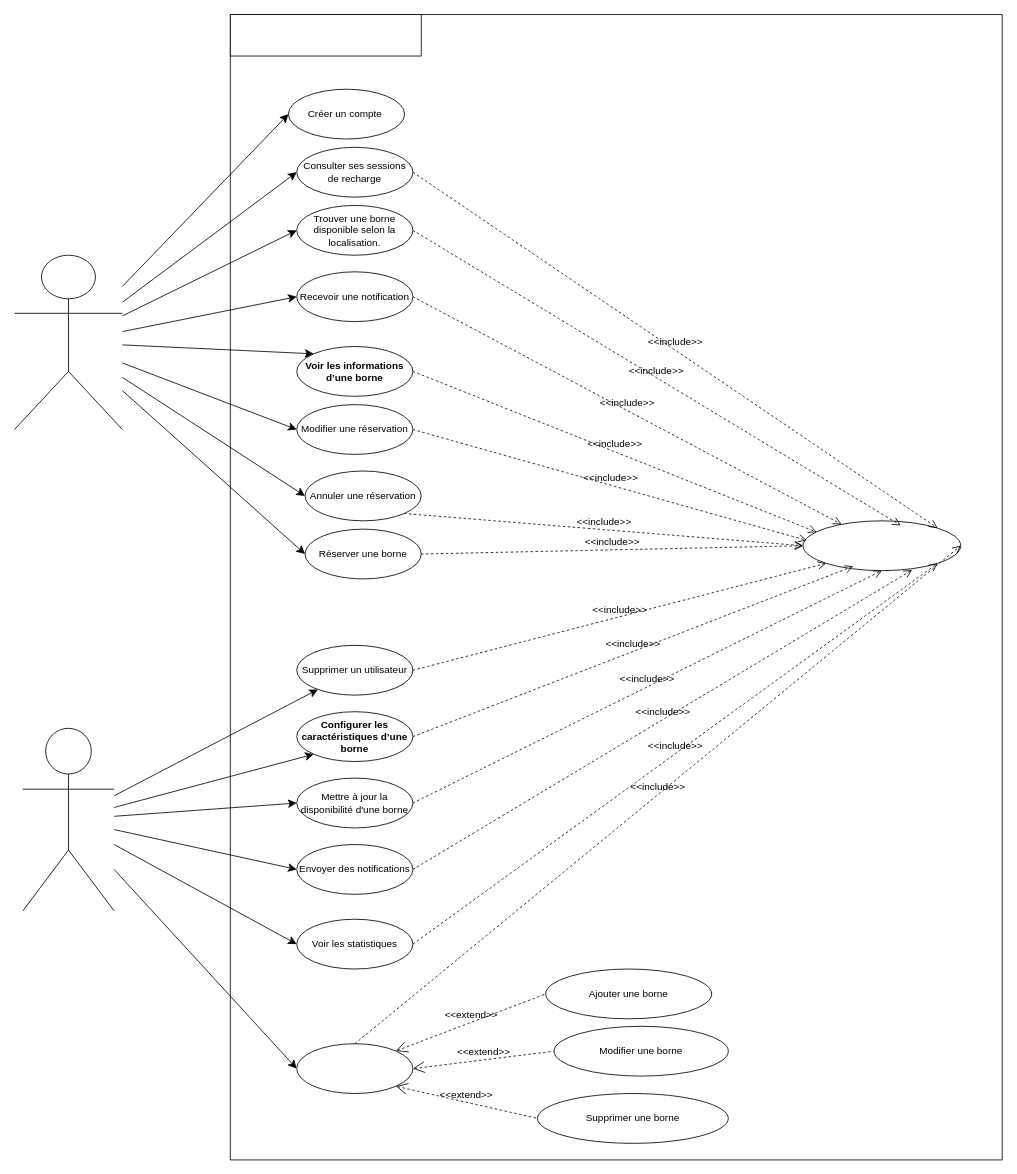
Image size: 1017x1174. Some labels were removed from this diagram. Each missing label, with the box of its shape:
Admin: (22, 727, 114, 911)
EVolt: (229, 14, 421, 56)
Gestion De bornes: (296, 1043, 413, 1094)
S’authentifier: (802, 520, 961, 571)
User: (14, 254, 122, 430)
